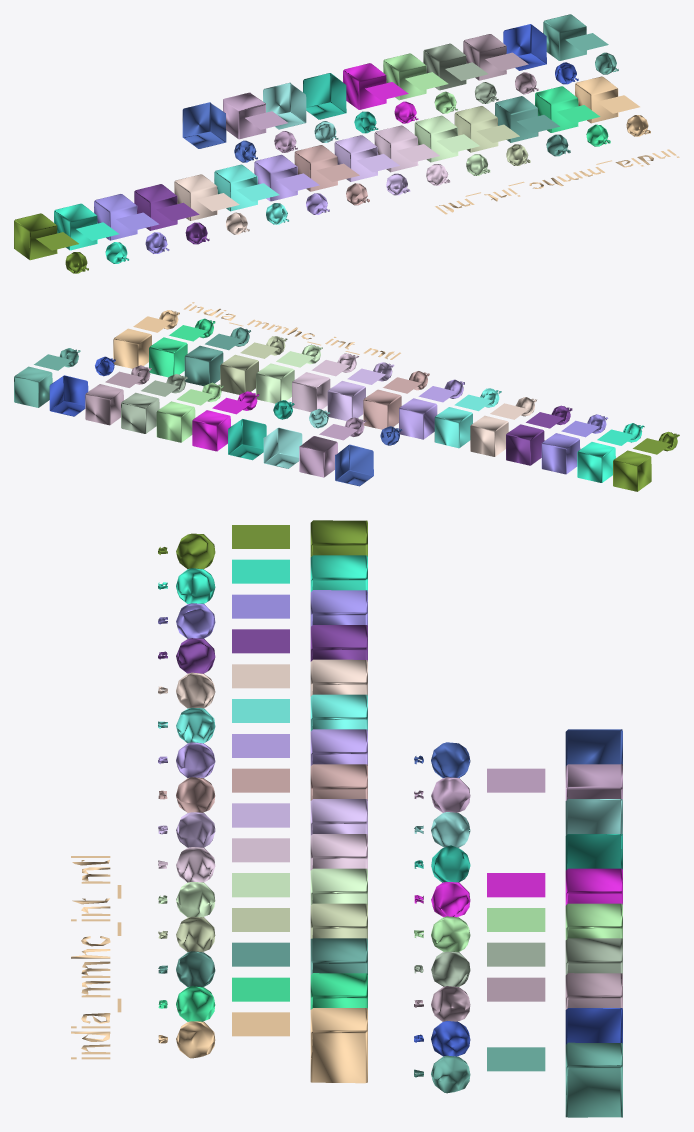
The model's file is india_mmhc_int_mtl_lod3.glb.
The picture shows the model from 3 angles, top to bottom: view 1: azimuth 30°, elevation 25°; view 2: azimuth 150°, elevation 25°; view 3: azimuth 270°, elevation 25°; orthographic projection. The views are drawn at different scales.
Bounding box in the file's own units: 83.41 × 3.72 × 35.61.
